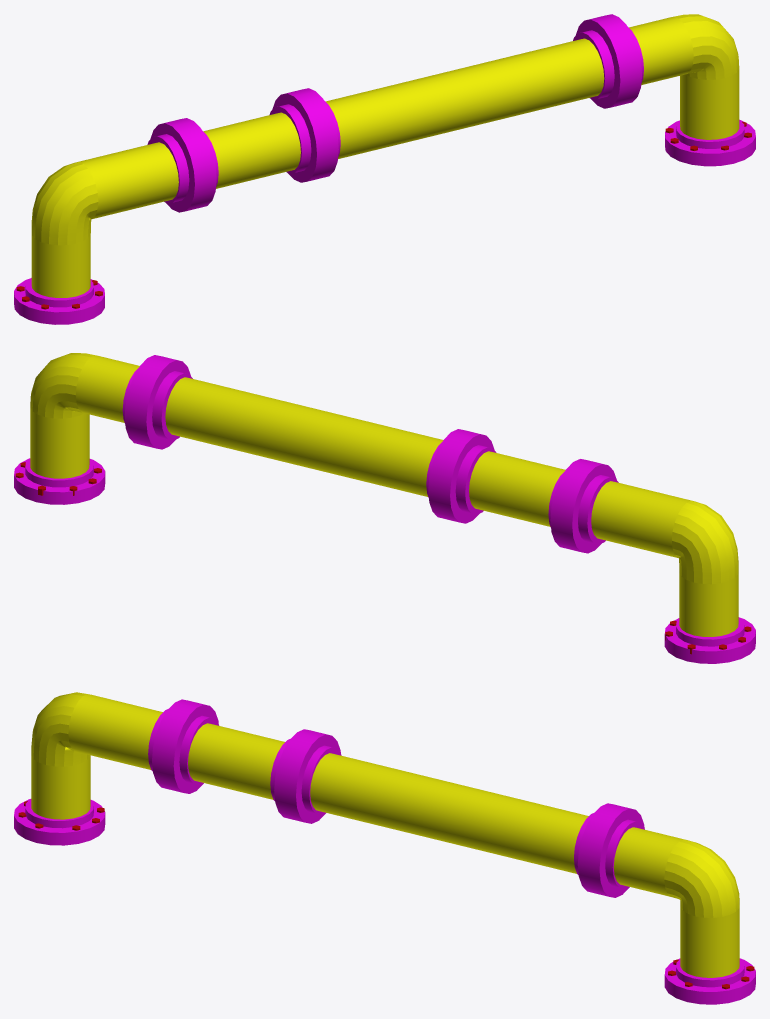
Rendered from CurvePipe.fbx.
3 views of the same model, one above another, from view 1: azimuth 30°, elevation 25°; view 2: azimuth 150°, elevation 25°; view 3: azimuth 330°, elevation 25° (orthographic).
Visible parts, largest first — view 1: pCylinder4, pCylinder26, pCylinder20, pCylinder23, pCylinder15, pCylinder5, pCylinder22, pCylinder19, pCylinder25, pCylinder6, pCylinder16; view 2: pCylinder4, pCylinder26, pCylinder20, pCylinder23, pCylinder5, pCylinder15, pCylinder25, pCylinder22, pCylinder19, pCylinder6, pCylinder16; view 3: pCylinder4, pCylinder26, pCylinder23, pCylinder20, pCylinder15, pCylinder5, pCylinder18, pCylinder21, pCylinder24, pCylinder16, pCylinder6.
Boxes of the visible parts, left/top/right/bottom form: pCylinder4: left=31, top=14, right=739, bottom=297; pCylinder26: left=575, top=14, right=641, bottom=108; pCylinder20: left=150, top=118, right=216, bottom=212; pCylinder23: left=272, top=88, right=338, bottom=182; pCylinder15: left=665, top=120, right=755, bottom=166; pCylinder5: left=14, top=278, right=104, bottom=324; pCylinder22: left=269, top=104, right=311, bottom=173; pCylinder19: left=147, top=134, right=189, bottom=203; pCylinder25: left=573, top=30, right=614, bottom=99; pCylinder6: left=25, top=278, right=93, bottom=307; pCylinder16: left=676, top=120, right=744, bottom=148; pCylinder4: left=30, top=353, right=738, bottom=636; pCylinder26: left=124, top=355, right=190, bottom=449; pCylinder20: left=550, top=459, right=616, bottom=553; pCylinder23: left=428, top=429, right=494, bottom=523; pCylinder5: left=664, top=617, right=755, bottom=663; pCylinder15: left=14, top=458, right=105, bottom=504; pCylinder25: left=152, top=371, right=192, bottom=440; pCylinder22: left=455, top=445, right=496, bottom=514; pCylinder19: left=578, top=475, right=618, bottom=544; pCylinder6: left=676, top=617, right=744, bottom=646; pCylinder16: left=25, top=458, right=93, bottom=487; pCylinder4: left=31, top=692, right=739, bottom=977; pCylinder26: left=577, top=803, right=644, bottom=897; pCylinder23: left=274, top=729, right=340, bottom=823; pCylinder20: left=152, top=699, right=218, bottom=793; pCylinder15: left=664, top=958, right=755, bottom=1004; pCylinder5: left=14, top=799, right=105, bottom=845; pCylinder18: left=179, top=715, right=219, bottom=784; pCylinder21: left=301, top=745, right=341, bottom=814; pCylinder24: left=605, top=819, right=644, bottom=888; pCylinder16: left=676, top=958, right=744, bottom=987; pCylinder6: left=25, top=799, right=93, bottom=828.
Bounding box in the file's own units: 368 × 72.44 × 41.46.
